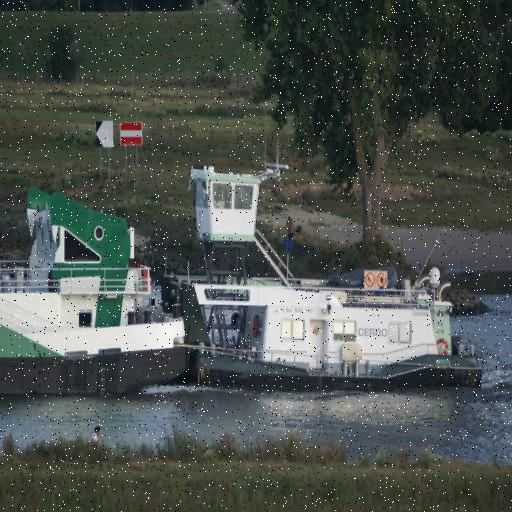tugboat: (148, 137, 492, 403)
